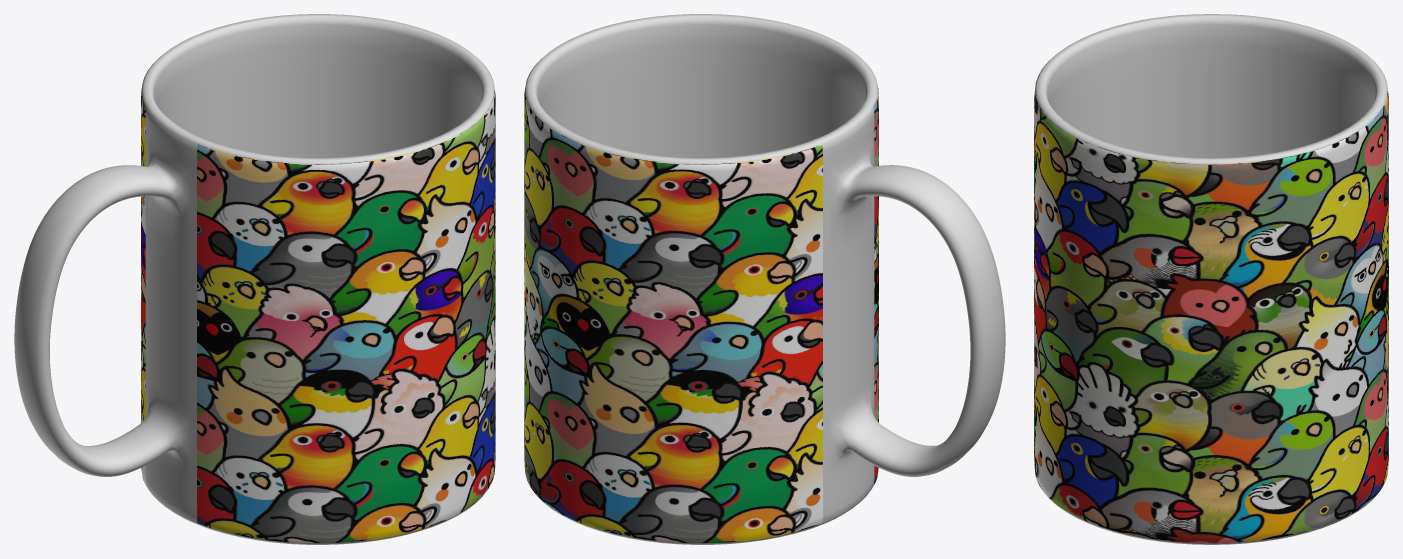
3 renders of one model, left to right at view 1: azimuth 30°, elevation 25°; view 2: azimuth 150°, elevation 25°; view 3: azimuth 270°, elevation 25°, orthographic.
Parts seen in each view (by area): view 1: Mug; view 2: Mug; view 3: Mug.
Part boxes in pixels (<box>): Mug: <box>14,14,495,544</box>; Mug: <box>524,14,1005,544</box>; Mug: <box>1034,14,1388,544</box>.
Size of what is drawn, in the model's own units: 11.66 by 9.5 by 7.96.
2 materials, 1 textured.
